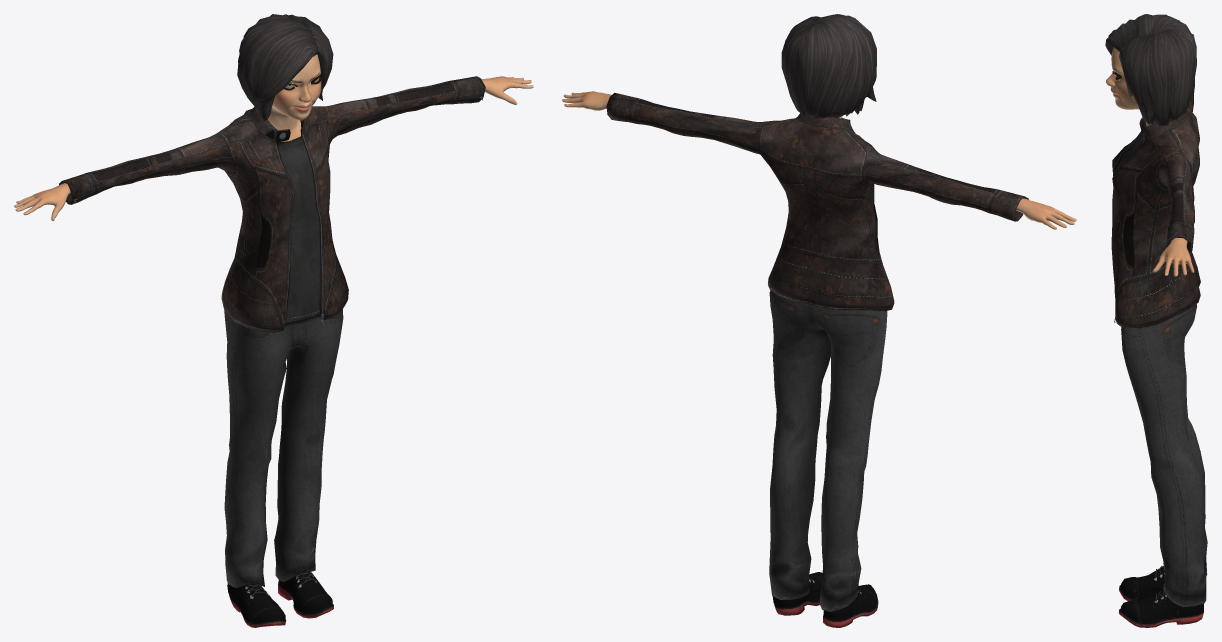
3 renders of one model, left to right at view 1: azimuth 30°, elevation 25°; view 2: azimuth 150°, elevation 25°; view 3: azimuth 270°, elevation 25°, orthographic.
Visible parts, largest first — view 1: Tops, Bottoms, Hair, Body, Shoes; view 2: Tops, Bottoms, Hair, Shoes, Body; view 3: Tops, Bottoms, Hair, Shoes, Body.
Part boxes in pixels (x1,y1,x2,y2): Tops: [59, 76, 485, 332]; Bottoms: [224, 309, 343, 587]; Hair: [237, 14, 333, 121]; Body: [14, 54, 533, 220]; Shoes: [227, 569, 333, 627]; Tops: [606, 92, 1028, 310]; Bottoms: [769, 290, 887, 611]; Hair: [781, 14, 876, 118]; Shoes: [772, 572, 878, 627]; Body: [562, 91, 1076, 229]; Tops: [1111, 78, 1200, 328]; Bottoms: [1121, 304, 1207, 607]; Hair: [1105, 14, 1196, 125]; Shoes: [1119, 566, 1203, 627]; Body: [1106, 34, 1194, 276].
Bounding box in the file's own units: 152 × 167 × 26.27.
Materials: 5 (5 with a texture image).
